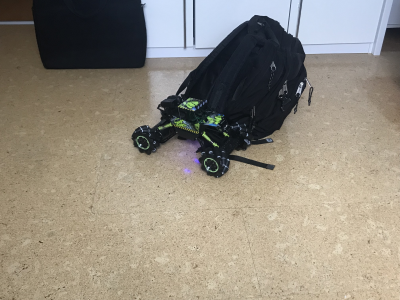remote control car: (128, 91, 252, 180)
